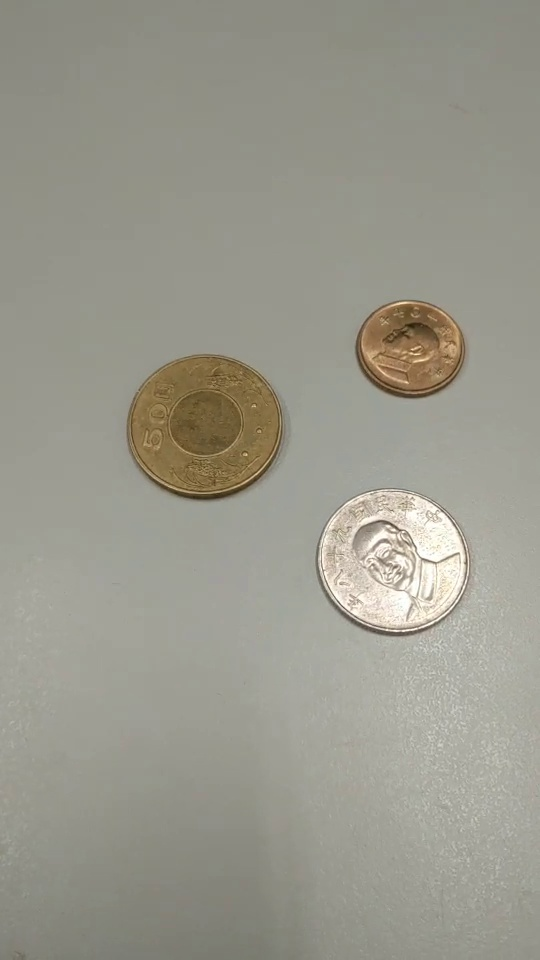NT$ 1: (355, 297, 466, 399)
NT$ 10: (314, 487, 472, 639)
NT$ 50: (127, 353, 285, 502)
